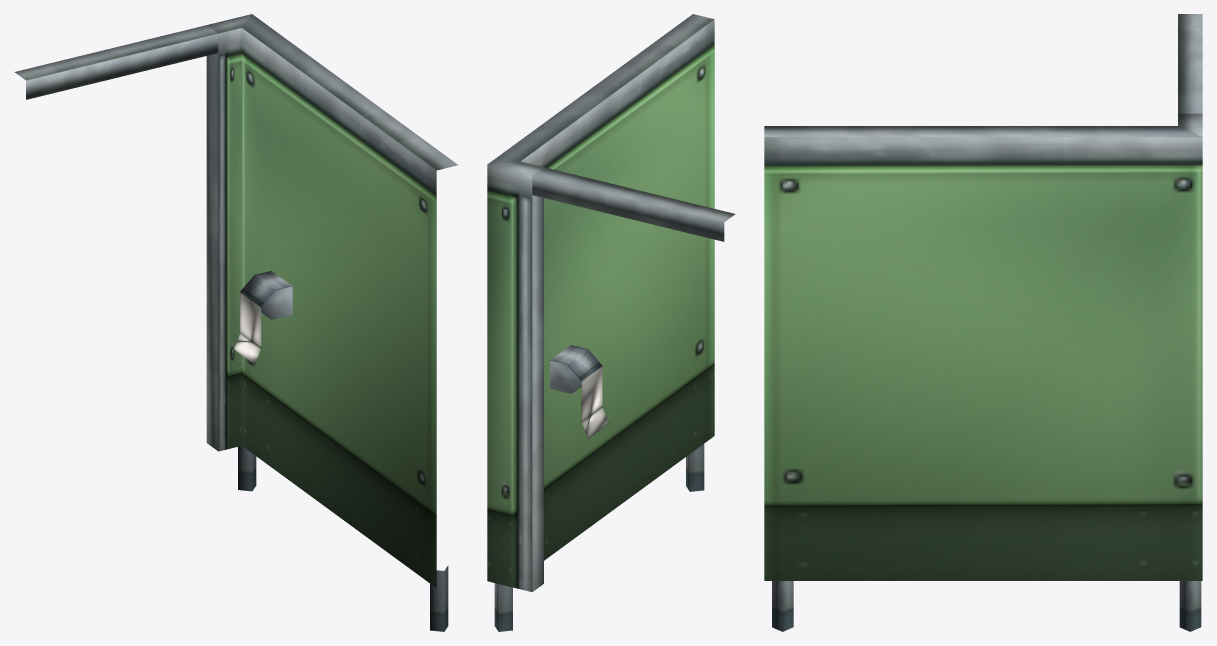
File: a_SCpart03.glb
3 renders of one model, left to right at view 1: azimuth 30°, elevation 25°; view 2: azimuth 150°, elevation 25°; view 3: azimuth 270°, elevation 25°, orthographic. The views are drawn at different scales.
Visible parts, largest first — view 1: a_SCpart03; view 2: a_SCpart03; view 3: a_SCpart03.
Part boxes in pixels (x1,y1,x2,y2): a_SCpart03: [14, 14, 458, 631]; a_SCpart03: [487, 14, 735, 631]; a_SCpart03: [764, 14, 1202, 631].
Bounding box in the file's own units: 0.9998 × 1.88 × 1.5.
Materials: 1 (1 with a texture image).
